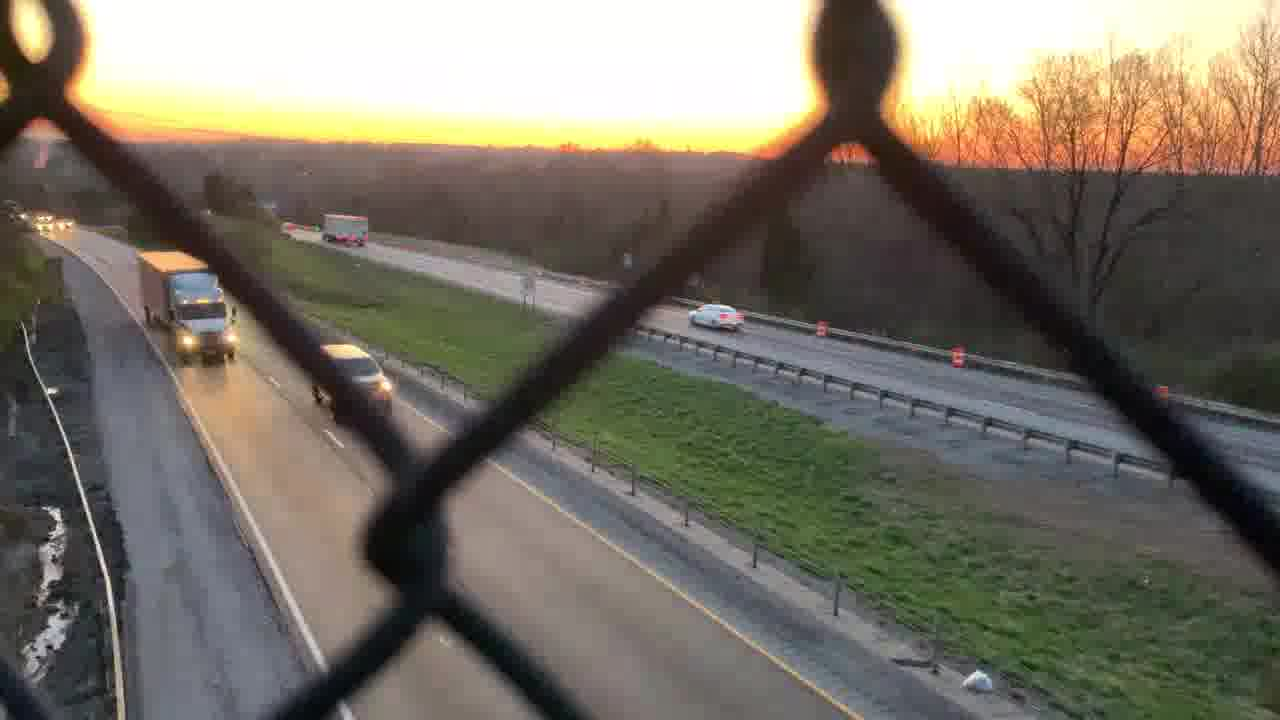heavyTruck: (134, 248, 247, 371), (315, 213, 373, 247)
smallCar: (688, 295, 746, 332)
